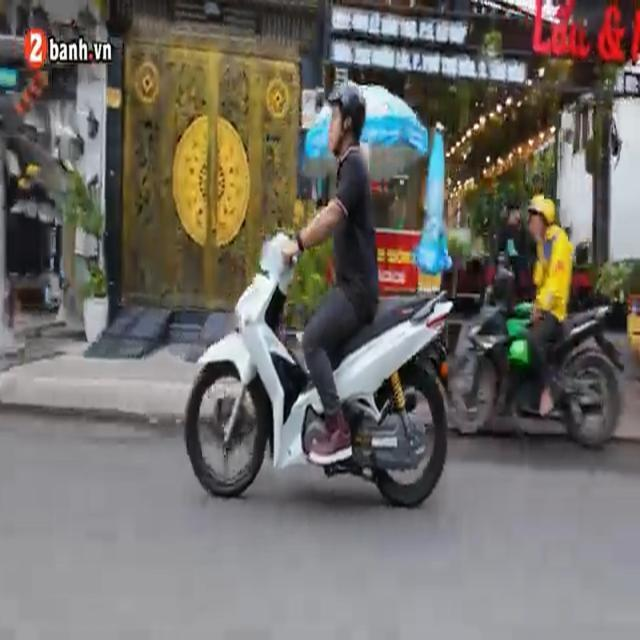motorcycle: (185, 274, 467, 520), (445, 294, 623, 448)
